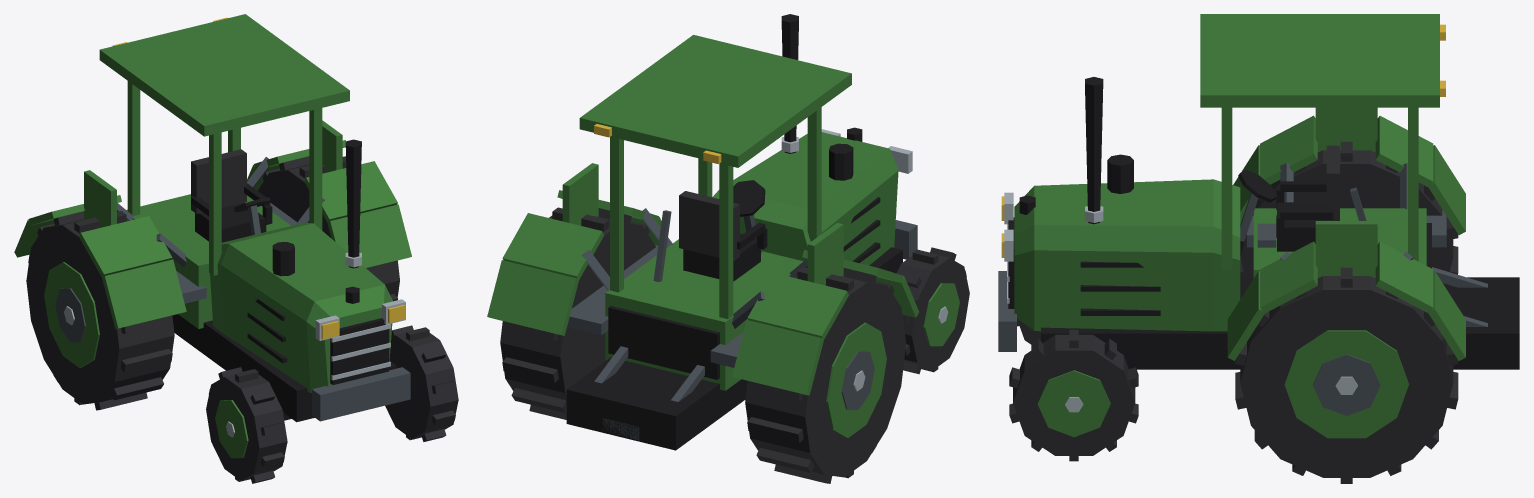
File: GV_Tractor_Green_01.glb
The picture shows the model from 3 angles, left to right: view 1: azimuth 30°, elevation 25°; view 2: azimuth 150°, elevation 25°; view 3: azimuth 270°, elevation 25°; orthographic projection. The views are drawn at different scales.
Visible parts, largest first — view 1: GV_Tractor_Green_01; view 2: GV_Tractor_Green_01; view 3: GV_Tractor_Green_01.
Boxes of the visible parts, <box> form: GV_Tractor_Green_01: <box>14,14,458,483</box>; GV_Tractor_Green_01: <box>487,14,969,483</box>; GV_Tractor_Green_01: <box>998,14,1519,483</box>.
Size of the model in its own units: 2.92 by 2.93 by 3.92.
Materials: 1 (1 with a texture image).
